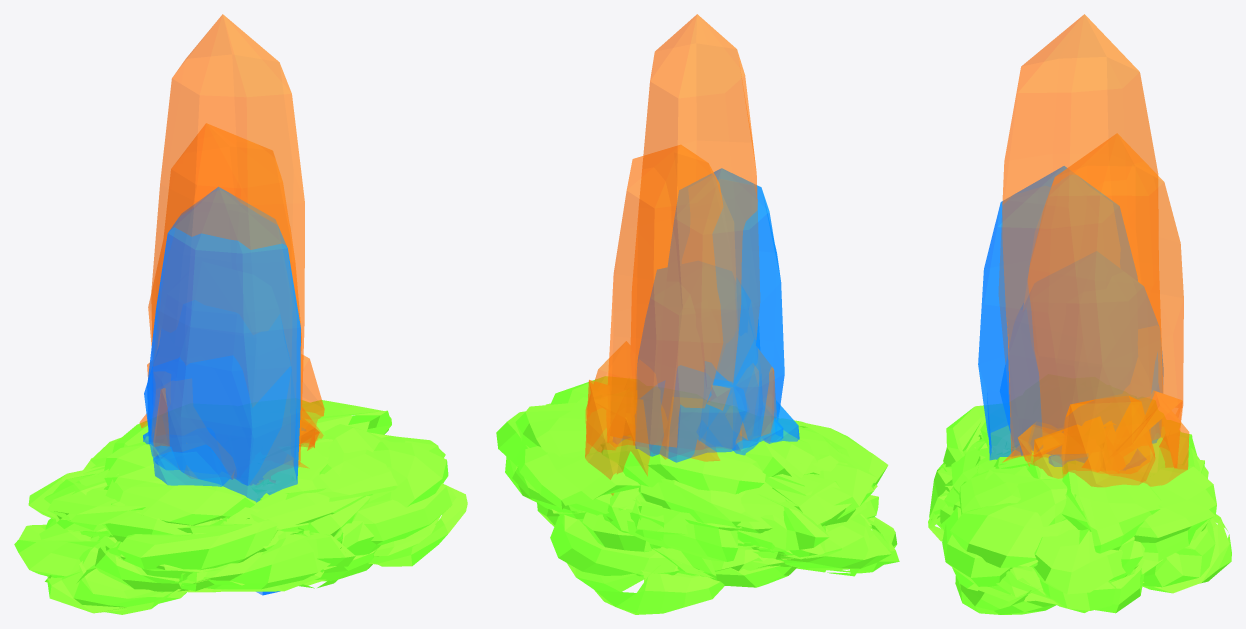
File: XRYSTAL29.gltf
3 renders of one model, left to right at view 1: azimuth 30°, elevation 25°; view 2: azimuth 150°, elevation 25°; view 3: azimuth 270°, elevation 25°, orthographic. The views are drawn at different scales.
Parts seen in each view (by area): view 1: Cube.001, Circle.001, Circle; view 2: Circle.001, Cube.001, Circle; view 3: Circle.001, Cube.001, Circle.
Part boxes in pixels (bbox=[...]): Cube.001: bbox=[14, 400, 467, 614]; Circle.001: bbox=[139, 14, 324, 484]; Circle: bbox=[143, 187, 300, 595]; Circle.001: bbox=[585, 14, 776, 495]; Cube.001: bbox=[496, 376, 899, 614]; Circle: bbox=[619, 168, 799, 462]; Circle.001: bbox=[999, 14, 1189, 486]; Cube.001: bbox=[928, 404, 1231, 614]; Circle: bbox=[978, 166, 1163, 466].
Bounding box in the file's own units: 3.55 × 4.68 × 2.32.
